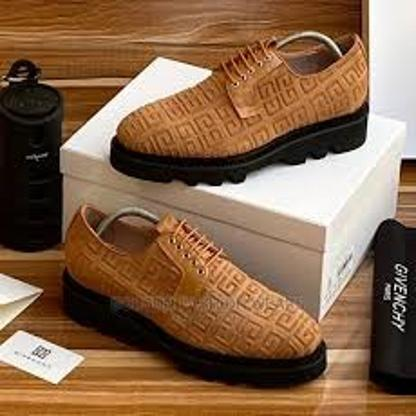not trash: (59, 206, 340, 398), (107, 31, 370, 188), (0, 40, 63, 258)
